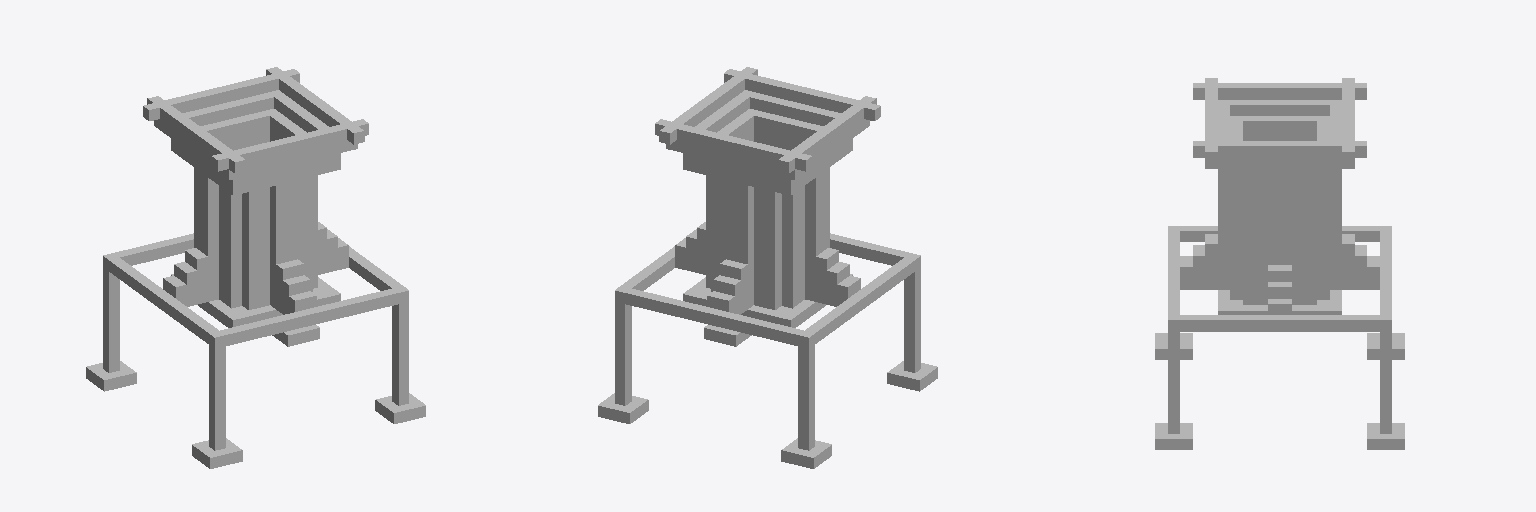
Rendered from SL_FishDrill_Base.obj.
3 renders of one model, left to right at view 1: azimuth 30°, elevation 25°; view 2: azimuth 150°, elevation 25°; view 3: azimuth 270°, elevation 25°, orthographic.
Parts seen in each view (by area): view 1: SL_FishDrill_Base; view 2: SL_FishDrill_Base; view 3: SL_FishDrill_Base.
Boxes of the visible parts, x1,y1,x2,y2 form: SL_FishDrill_Base: [86, 67, 425, 468]; SL_FishDrill_Base: [598, 67, 937, 468]; SL_FishDrill_Base: [1155, 78, 1404, 449].
Bounding box in the file's own units: 20 × 25 × 20.